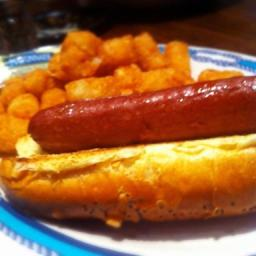hotdog: (38, 107, 232, 160), (69, 96, 255, 128), (150, 82, 256, 116), (186, 71, 256, 105), (26, 108, 60, 143)
